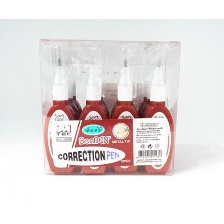correction_fluid: (41, 40, 76, 175), (141, 43, 175, 175), (76, 41, 110, 173), (109, 42, 142, 173)
plastic_box: (35, 35, 183, 180)
